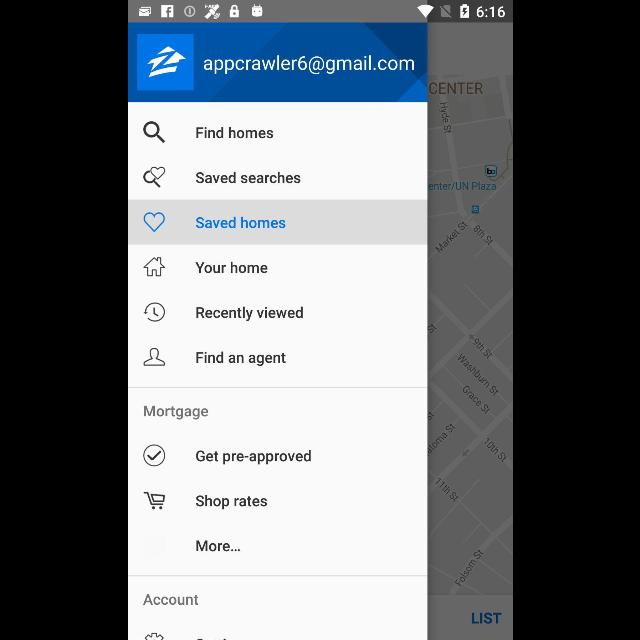icon: (142, 121, 164, 143), (142, 166, 164, 188), (142, 444, 164, 466), (142, 212, 164, 232), (142, 302, 164, 322), (143, 258, 165, 276), (143, 348, 165, 366), (143, 492, 165, 510)
image: (136, 35, 194, 91)
panel: (128, 22, 426, 640)
text: (202, 55, 414, 75), (195, 306, 302, 322), (196, 450, 310, 464), (194, 172, 300, 184), (195, 352, 285, 366), (195, 494, 267, 510), (195, 217, 285, 229), (195, 127, 272, 139), (144, 406, 208, 420), (195, 262, 268, 274), (142, 594, 198, 606), (196, 540, 240, 552)
textbutton: (142, 594, 198, 606), (471, 612, 502, 624)
uppertaskbar: (128, 1, 512, 23)
